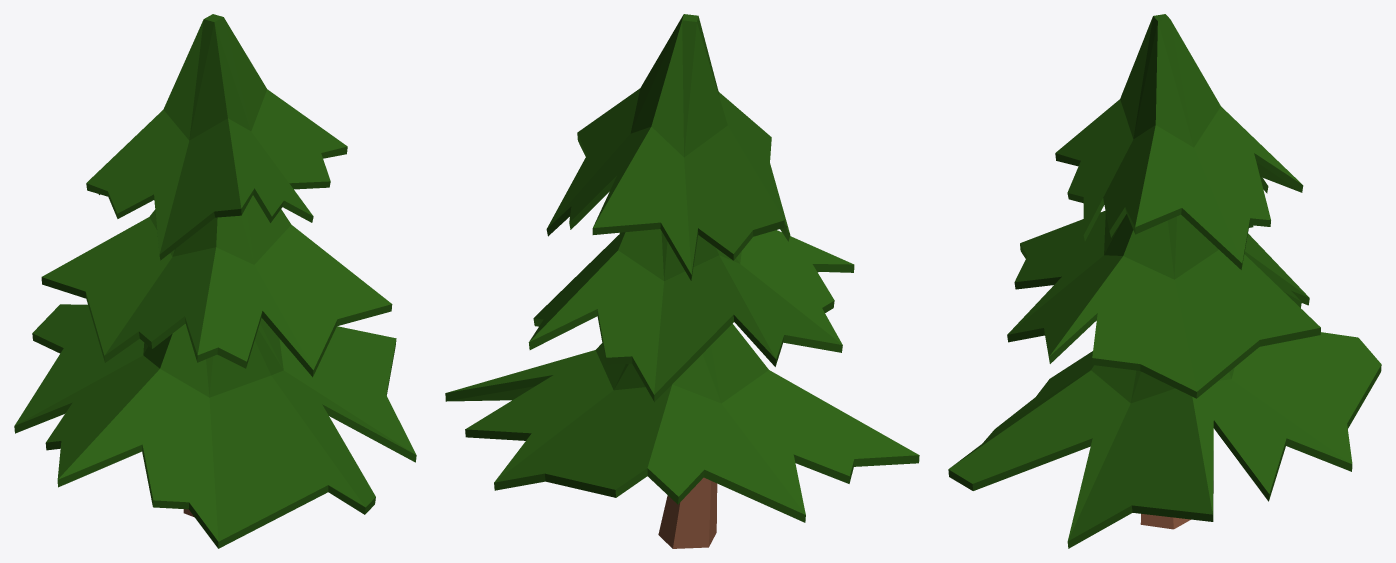
File: tree_2.fbx
3 views of the same model, side by side, from view 1: azimuth 30°, elevation 25°; view 2: azimuth 150°, elevation 25°; view 3: azimuth 270°, elevation 25° (orthographic). The views are drawn at different scales.
Parts seen in each view (by area): view 1: tree_2.002; view 2: tree_2.002; view 3: tree_2.002.
Part boxes in pixels (box(x1,y1,x2,y2)): tree_2.002: box(14, 14, 416, 548); tree_2.002: box(445, 14, 919, 548); tree_2.002: box(948, 14, 1381, 548).
Bounding box in the file's own units: 327 × 391 × 307.
